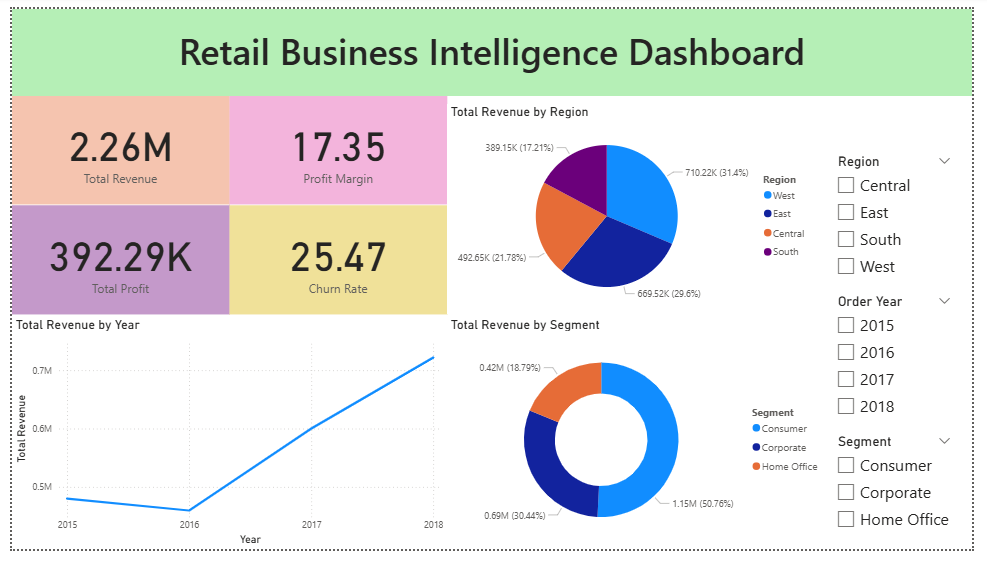

The page's visual inventory and layout, read from the dashboard file:
{"tool":"powerbi","page":{"name":"Page 1","canvas":[1280,720],"ordinal":0},"visuals":[{"type":"card","fields":{"Values":["superstore_cleaned.Total Revenue"]},"box":[0,115.7,290,145.7],"z":0},{"type":"card","fields":{"Values":["superstore_cleaned.Total Profit"]},"box":[0,261.4,290,145.7],"z":1000},{"type":"card","fields":{"Values":["superstore_cleaned.Profit Margin"]},"box":[290,115.7,290,145.7],"z":2000},{"type":"card","fields":{"Values":["superstore_cleaned.Churn Rate"]},"box":[290,261.4,290,145.7],"z":3000},{"type":"lineChart","fields":{"Category":["superstore_cleaned.Year-Month.Variation.Date Hierarchy.Year","superstore_cleaned.Year-Month.Variation.Date Hierarchy.Quarter","superstore_cleaned.Year-Month.Variation.Date Hierarchy.Month","superstore_cleaned.Year-Month.Variation.Date Hierarchy.Day"],"Y":["superstore_cleaned.Total Revenue"]},"box":[0,410,580,310],"z":4000},{"type":"pieChart","fields":{"Y":["superstore_cleaned.Total Revenue"],"Category":["superstore_cleaned.Region"]},"box":[580,127.1,491.4,280],"z":5000},{"type":"donutChart","fields":{"Category":["superstore_cleaned.Segment"],"Y":["superstore_cleaned.Total Revenue"]},"box":[580,410,508.6,310],"z":6000},{"type":"textbox","box":[0,0,1280,115.7],"z":7000},{"type":"slicer","fields":{"Values":["superstore_cleaned.Segment"]},"box":[1088.6,561.4,175.7,141.4],"z":8000},{"type":"slicer","fields":{"Values":["superstore_cleaned.Order Year"]},"box":[1088.6,375.7,175.7,185.7],"z":9000},{"type":"slicer","fields":{"Values":["superstore_cleaned.Region"]},"box":[1088.6,188.6,175.7,187.1],"z":10000}]}

Visuals, with their boxes in screenshot pixels (x1, y1, x2, y2), scaled from the page's 1280x720 canvas onto the 987x561 screenshot:
card - superstore_cleaned.Total Revenue: [left=0, top=90, right=224, bottom=204]
card - superstore_cleaned.Total Profit: [left=0, top=204, right=224, bottom=317]
card - superstore_cleaned.Profit Margin: [left=224, top=90, right=447, bottom=204]
card - superstore_cleaned.Churn Rate: [left=224, top=204, right=447, bottom=317]
lineChart - superstore_cleaned.Year-Month.Variation.Date Hierarchy.Year x superstore_cleaned.Year-Month.Variation.Date Hierarchy.Quarter: [left=0, top=319, right=447, bottom=560]
pieChart - superstore_cleaned.Total Revenue x superstore_cleaned.Region: [left=447, top=99, right=826, bottom=317]
donutChart - superstore_cleaned.Segment x superstore_cleaned.Total Revenue: [left=447, top=319, right=839, bottom=560]
textbox: [left=0, top=0, right=986, bottom=90]
slicer - superstore_cleaned.Segment: [left=839, top=437, right=975, bottom=548]
slicer - superstore_cleaned.Order Year: [left=839, top=293, right=975, bottom=437]
slicer - superstore_cleaned.Region: [left=839, top=147, right=975, bottom=293]
